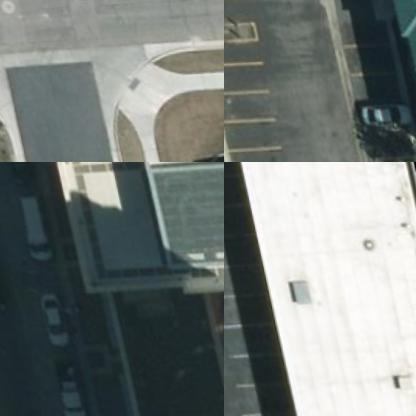car: (32, 350, 80, 415), (12, 184, 53, 256), (352, 87, 415, 130), (28, 279, 62, 339), (224, 399, 297, 415), (0, 162, 35, 179)
